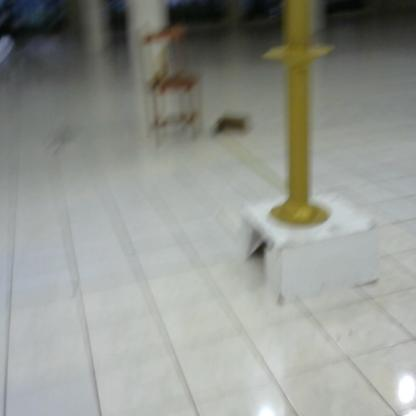pole: (259, 1, 343, 228)
